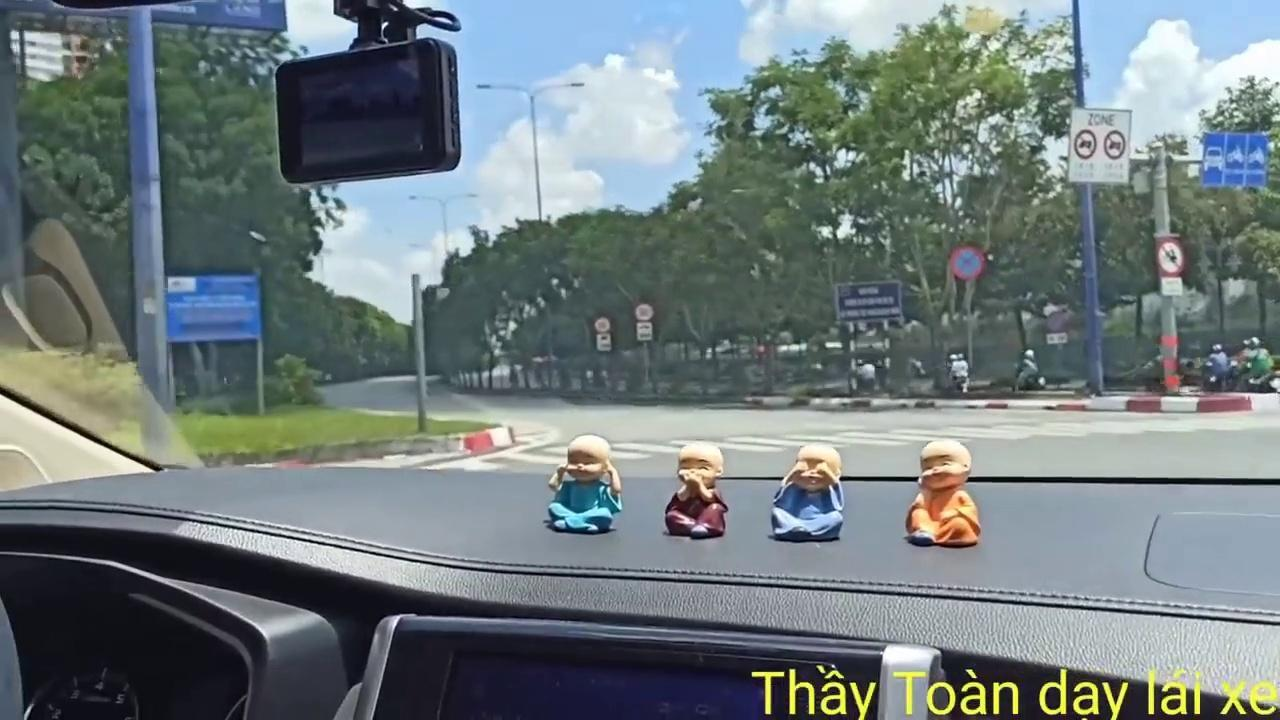Biển phụ: (638, 322, 654, 340), (596, 334, 612, 351)
Cấm cac phương tiện hoạt động trong khung giờ cố định: (1068, 103, 1133, 187)
Cấm dừng - Cấm đỗ: (948, 244, 986, 280)
Cấm xe máy: (1153, 235, 1189, 276)
Khác: (165, 272, 259, 344)
Làn đường cho từng xe: (1201, 129, 1270, 190)
